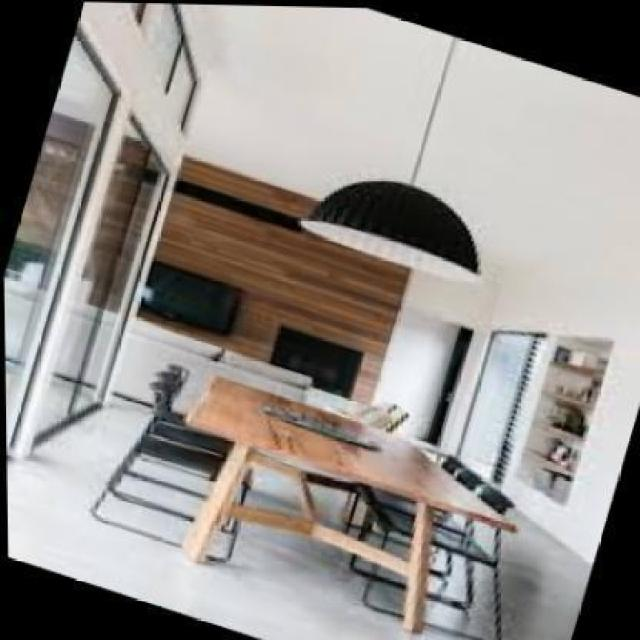tables: (181, 374, 517, 635)
